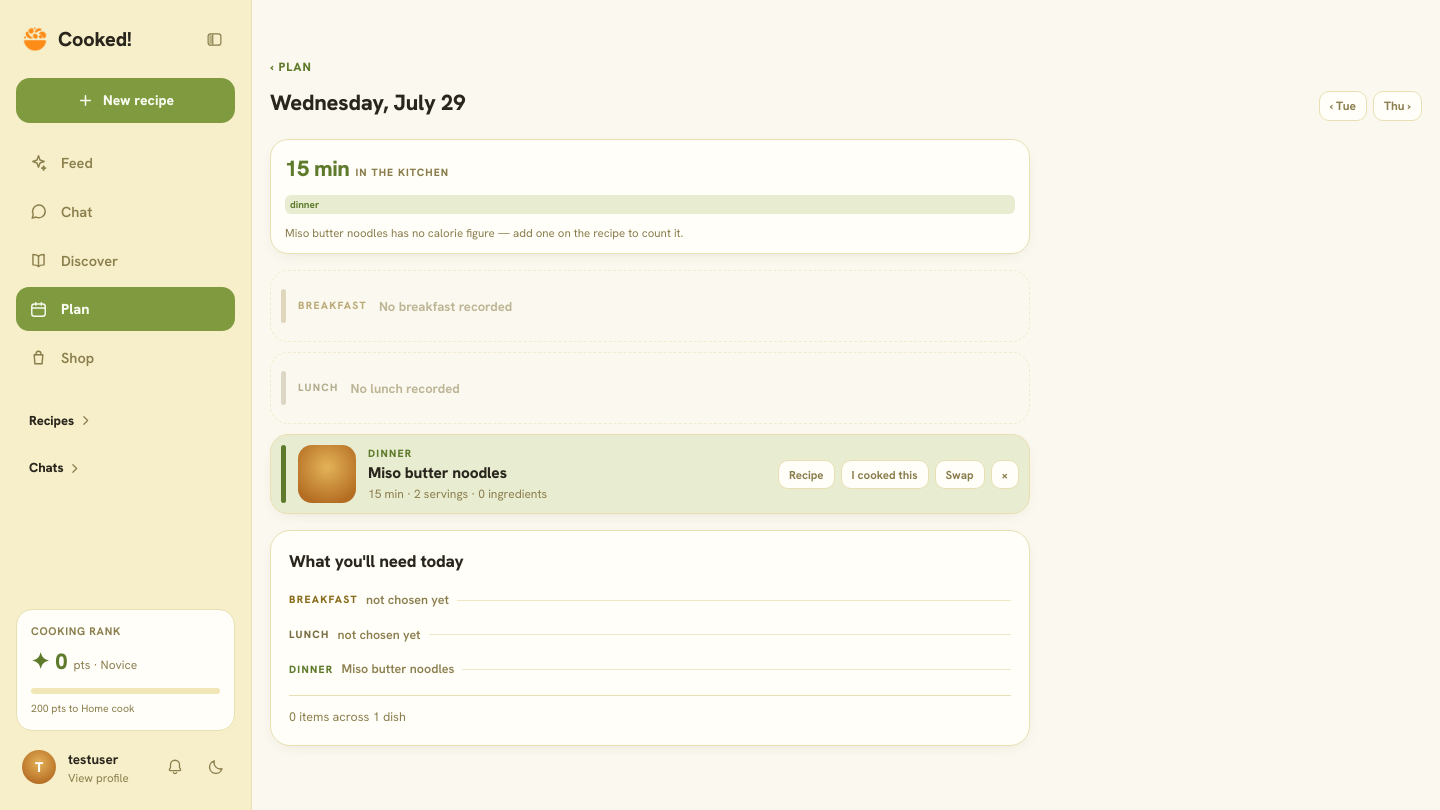
Test: recipe canvas over the day page (desktop) › keeps the day behind the canvas when a meal's Recipe button is used
Check: the 1st text "Miso butter noodles" is shown, box [368,462,507,483]
Click the link "Recipe". click: (806, 474)
box: [778,460,835,489]
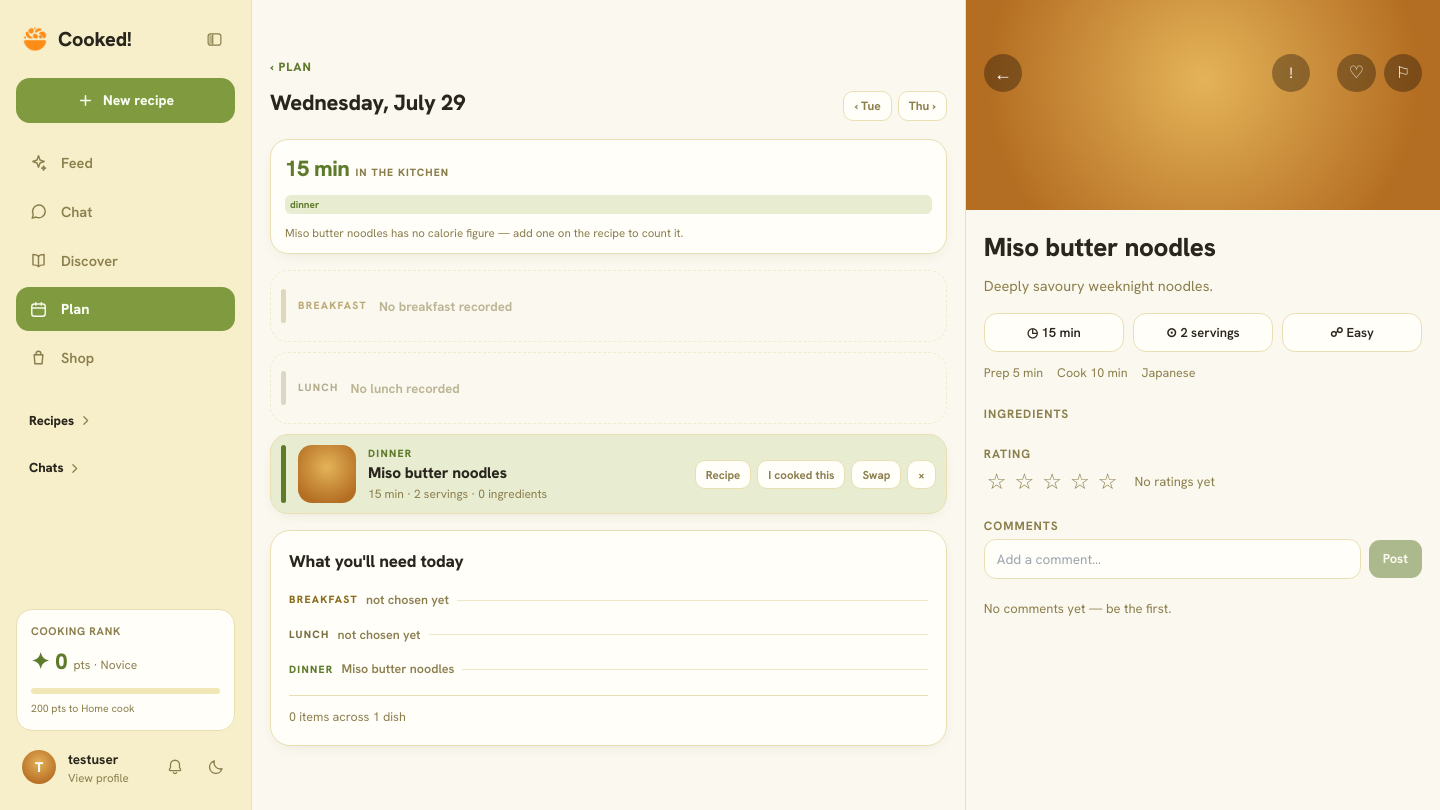
Check: the element with test id "day-slot-Dinner" is shown, box [270,434,947,514]
Check: the text "Deeply savoury weeknight noodles." is shown, box [984,276,1213,295]
